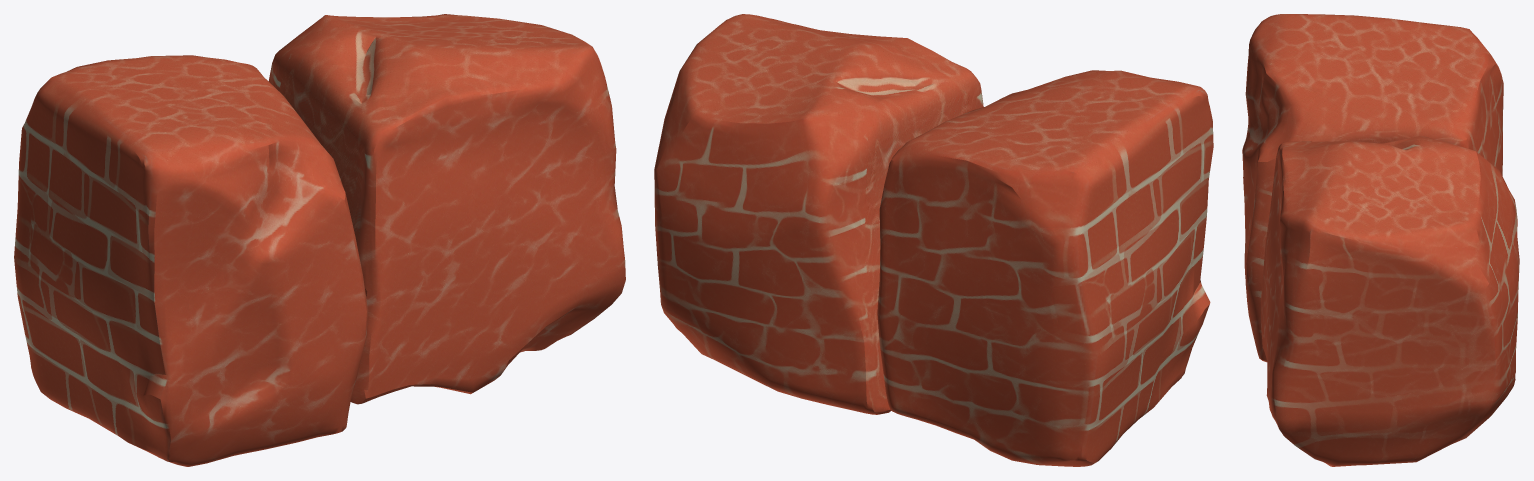
File: brick_half_redbrick.glb
3 views of the same model, side by side, from view 1: azimuth 30°, elevation 25°; view 2: azimuth 150°, elevation 25°; view 3: azimuth 270°, elevation 25° (orthographic). The views are drawn at different scales.
Visible parts, largest first — view 1: Mesh_0; view 2: Mesh_0; view 3: Mesh_0.
Part boxes in pixels (box(x1,y1,x2,y2)): Mesh_0: box(14, 14, 625, 466); Mesh_0: box(654, 14, 1213, 466); Mesh_0: box(1242, 14, 1519, 466).
Size of the model in its own units: 1.9 by 1.21 by 1.08.
1 material, 1 textured.
